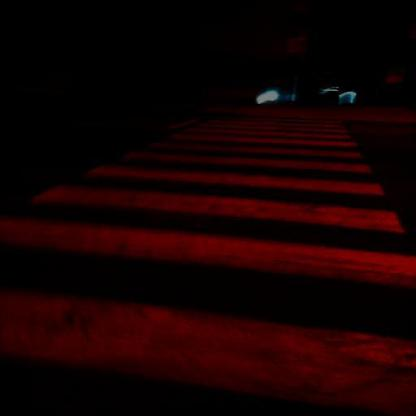crosswalk: (60, 148, 399, 201)
